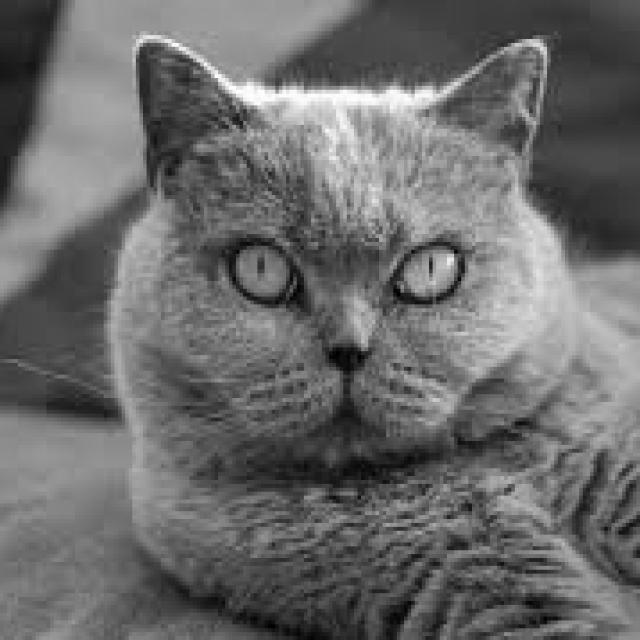british: (74, 0, 611, 507)
